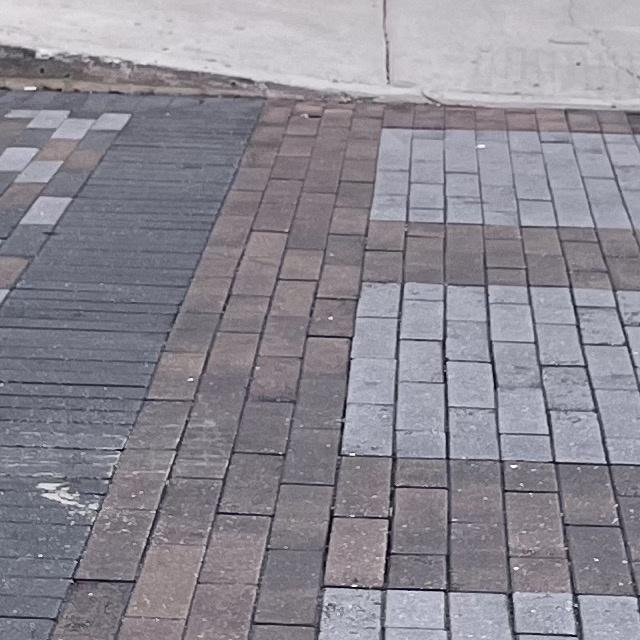curb: (0, 46, 356, 101)
